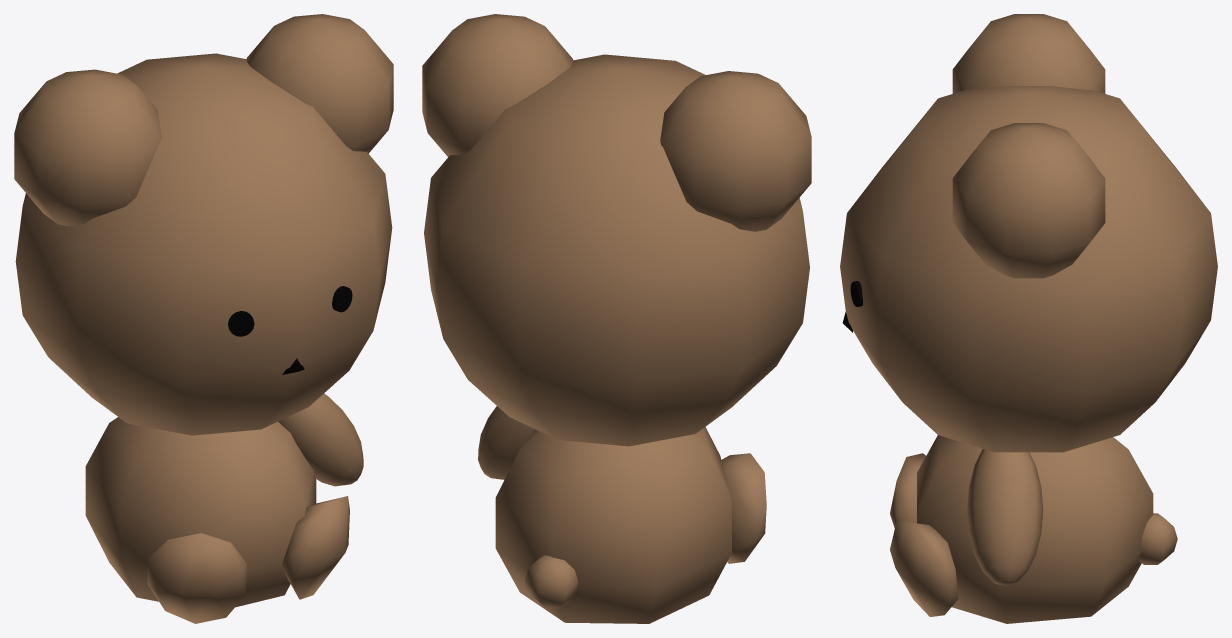
File: Osito.fbx
3 renders of one model, left to right at view 1: azimuth 30°, elevation 25°; view 2: azimuth 150°, elevation 25°; view 3: azimuth 270°, elevation 25°, orthographic. The views are drawn at different scales.
Visible parts, largest first — view 1: osito.002; view 2: osito.002; view 3: osito.002.
Boxes of the visible parts, left/top/right/bottom form: osito.002: left=14, top=14, right=393, bottom=623; osito.002: left=422, top=14, right=811, bottom=623; osito.002: left=840, top=14, right=1217, bottom=623.
Size of the model in its own units: 30.01 by 43.42 by 28.15.
